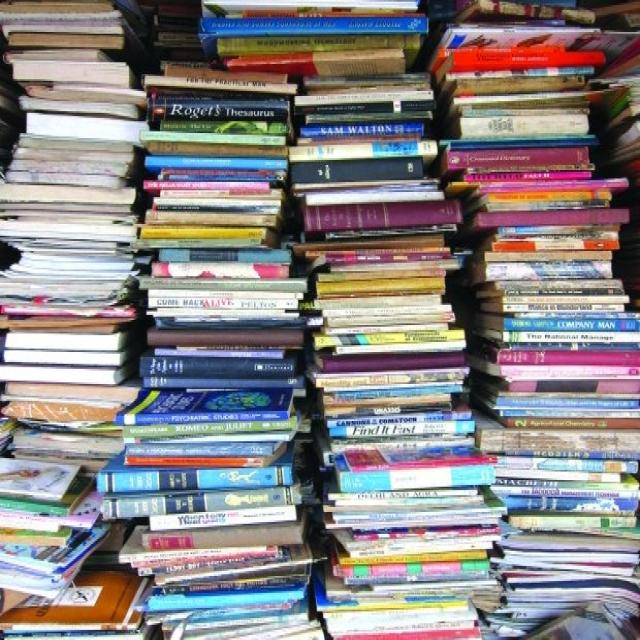book: (101, 487, 293, 524), (340, 462, 495, 495), (146, 92, 290, 123), (328, 420, 476, 440), (117, 409, 289, 426), (451, 47, 603, 66), (496, 348, 639, 366), (504, 313, 639, 332), (149, 298, 299, 314), (303, 123, 425, 138)
